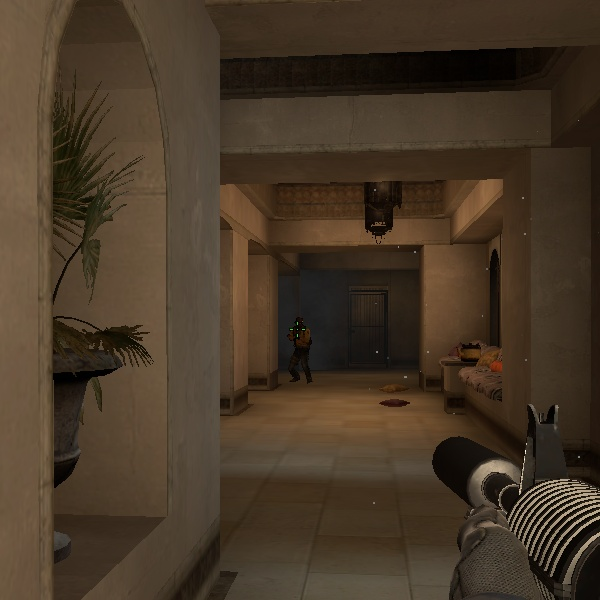t_body: (283, 314, 318, 383)
